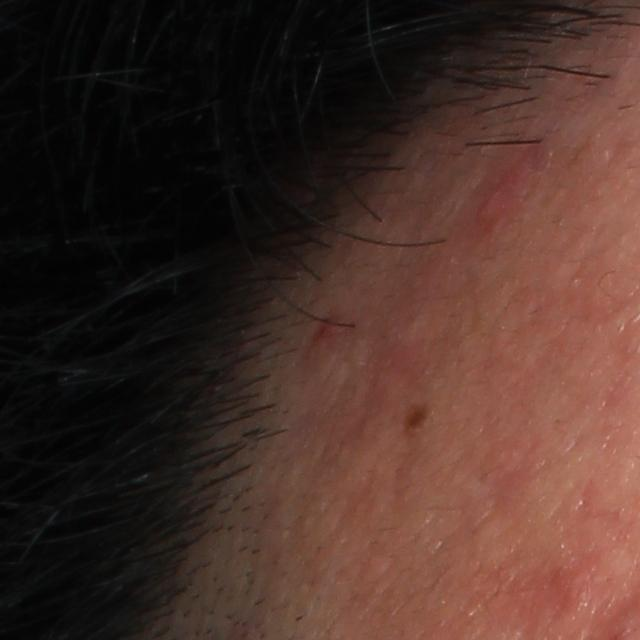nevus: (401, 401, 437, 439)
